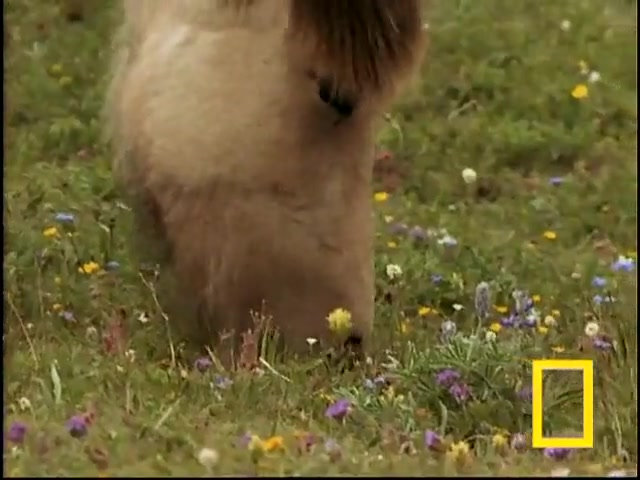horse: (104, 2, 424, 365)
